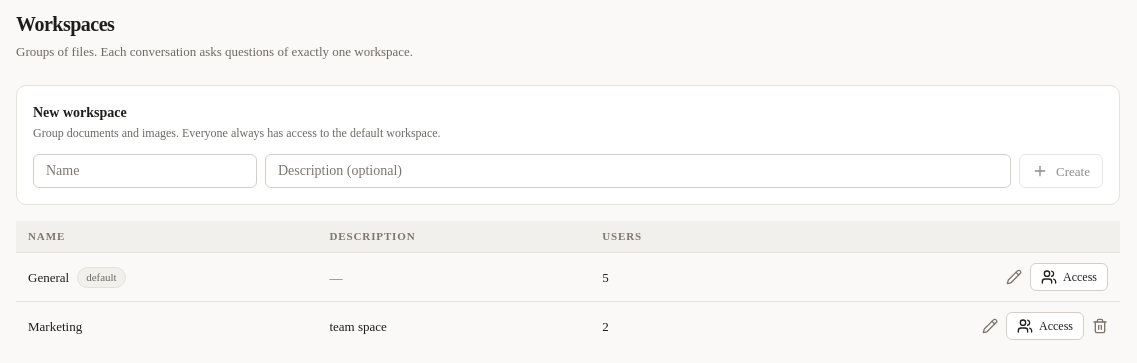
Scenario: WorkspacesManager › edits a row only after the admin asks to
Expected: the text "Marketing" is shown, [28,318,82,334]
Click the button named "Edit Marketing" at (990, 326), box [982,318,998,334]
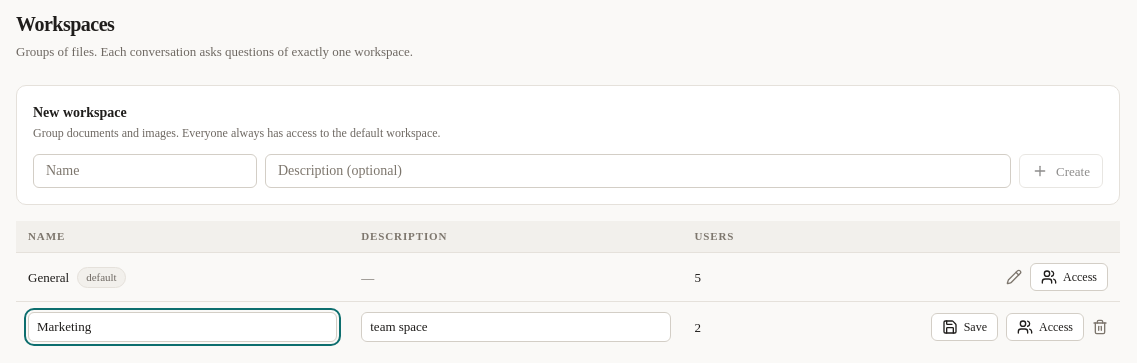
Expected: the field named "Name of Marketing" is shown, [28,312,337,342]
